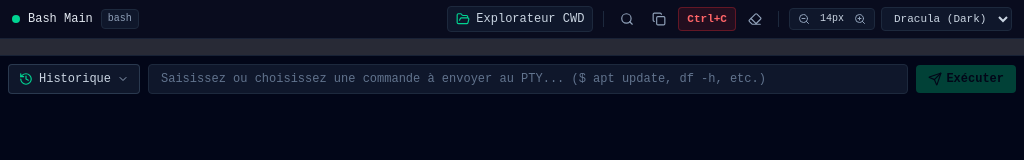
Test: TerminalView — mode web (WebSocket) › charge l'historique sauvegardé depuis localStorage
The image size is (1024, 160).
Click the button titled "Historique des commandes sauvegardées".
click(74, 79)  # box [8,64,140,94]
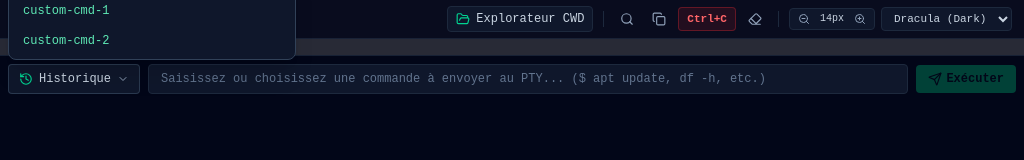
expect the text "custom-cmd-1" is shown: met, box [23,3,109,19]
